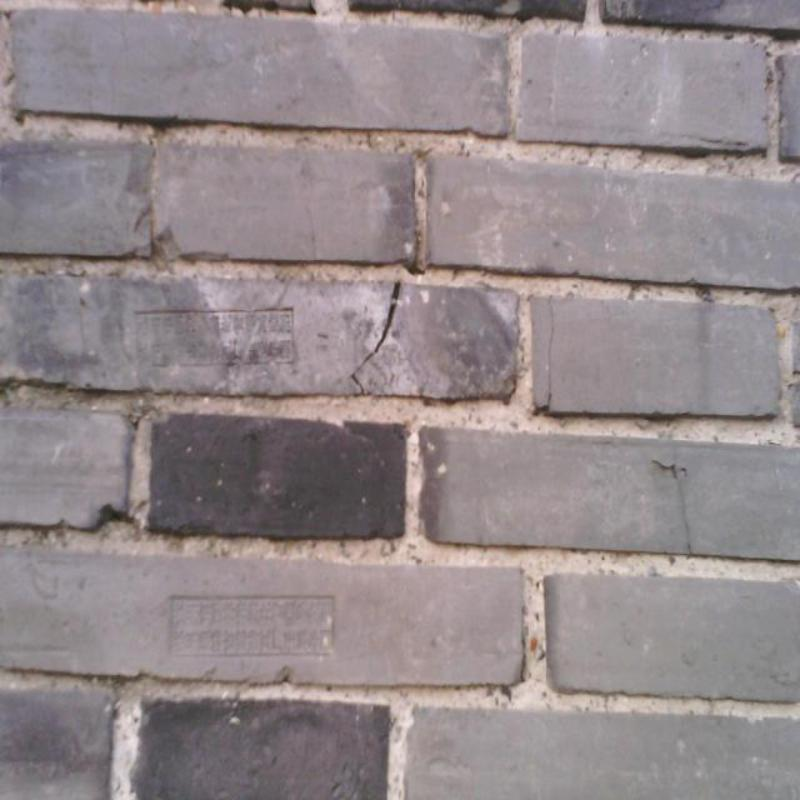crack: (351, 282, 400, 395), (545, 298, 555, 409)
